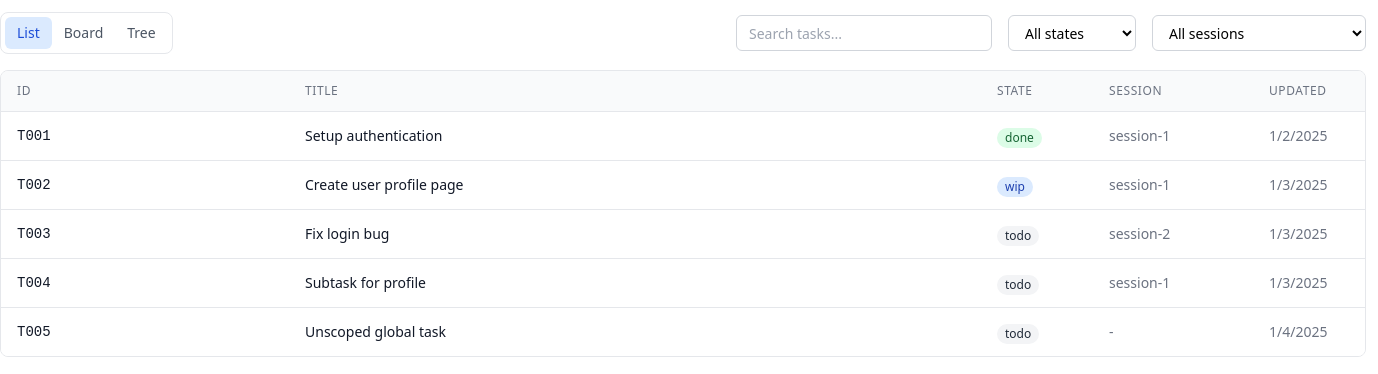
TasksView › Filters › filters for unscoped tasks when sessionId=none is selected
This screenshot has width=1378, height=374.
Select "Unscoped (no session)" in the dropdown named "session" at (1259, 33), box [1152, 15, 1366, 51]
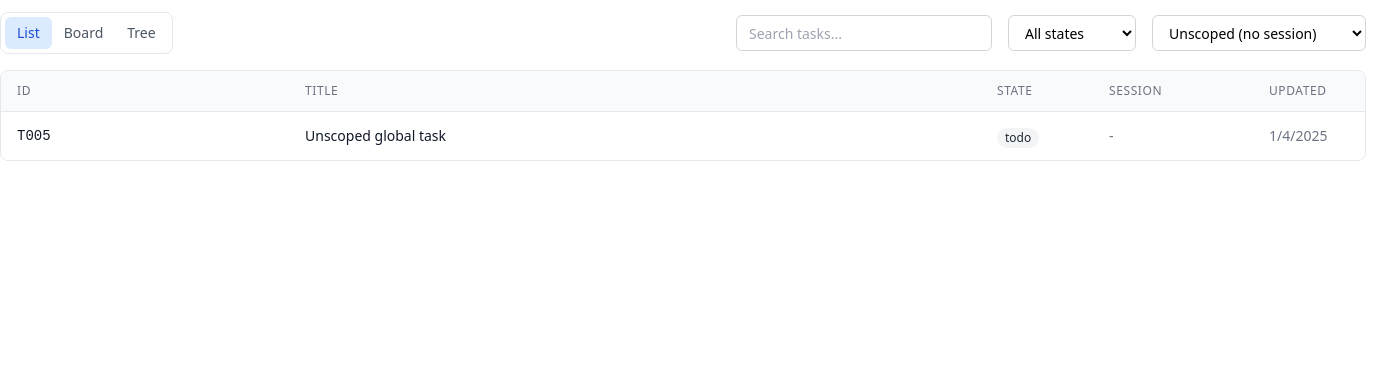
Now the text "T001" is gone
Now the text "T002" is gone
Now the text "T003" is gone
